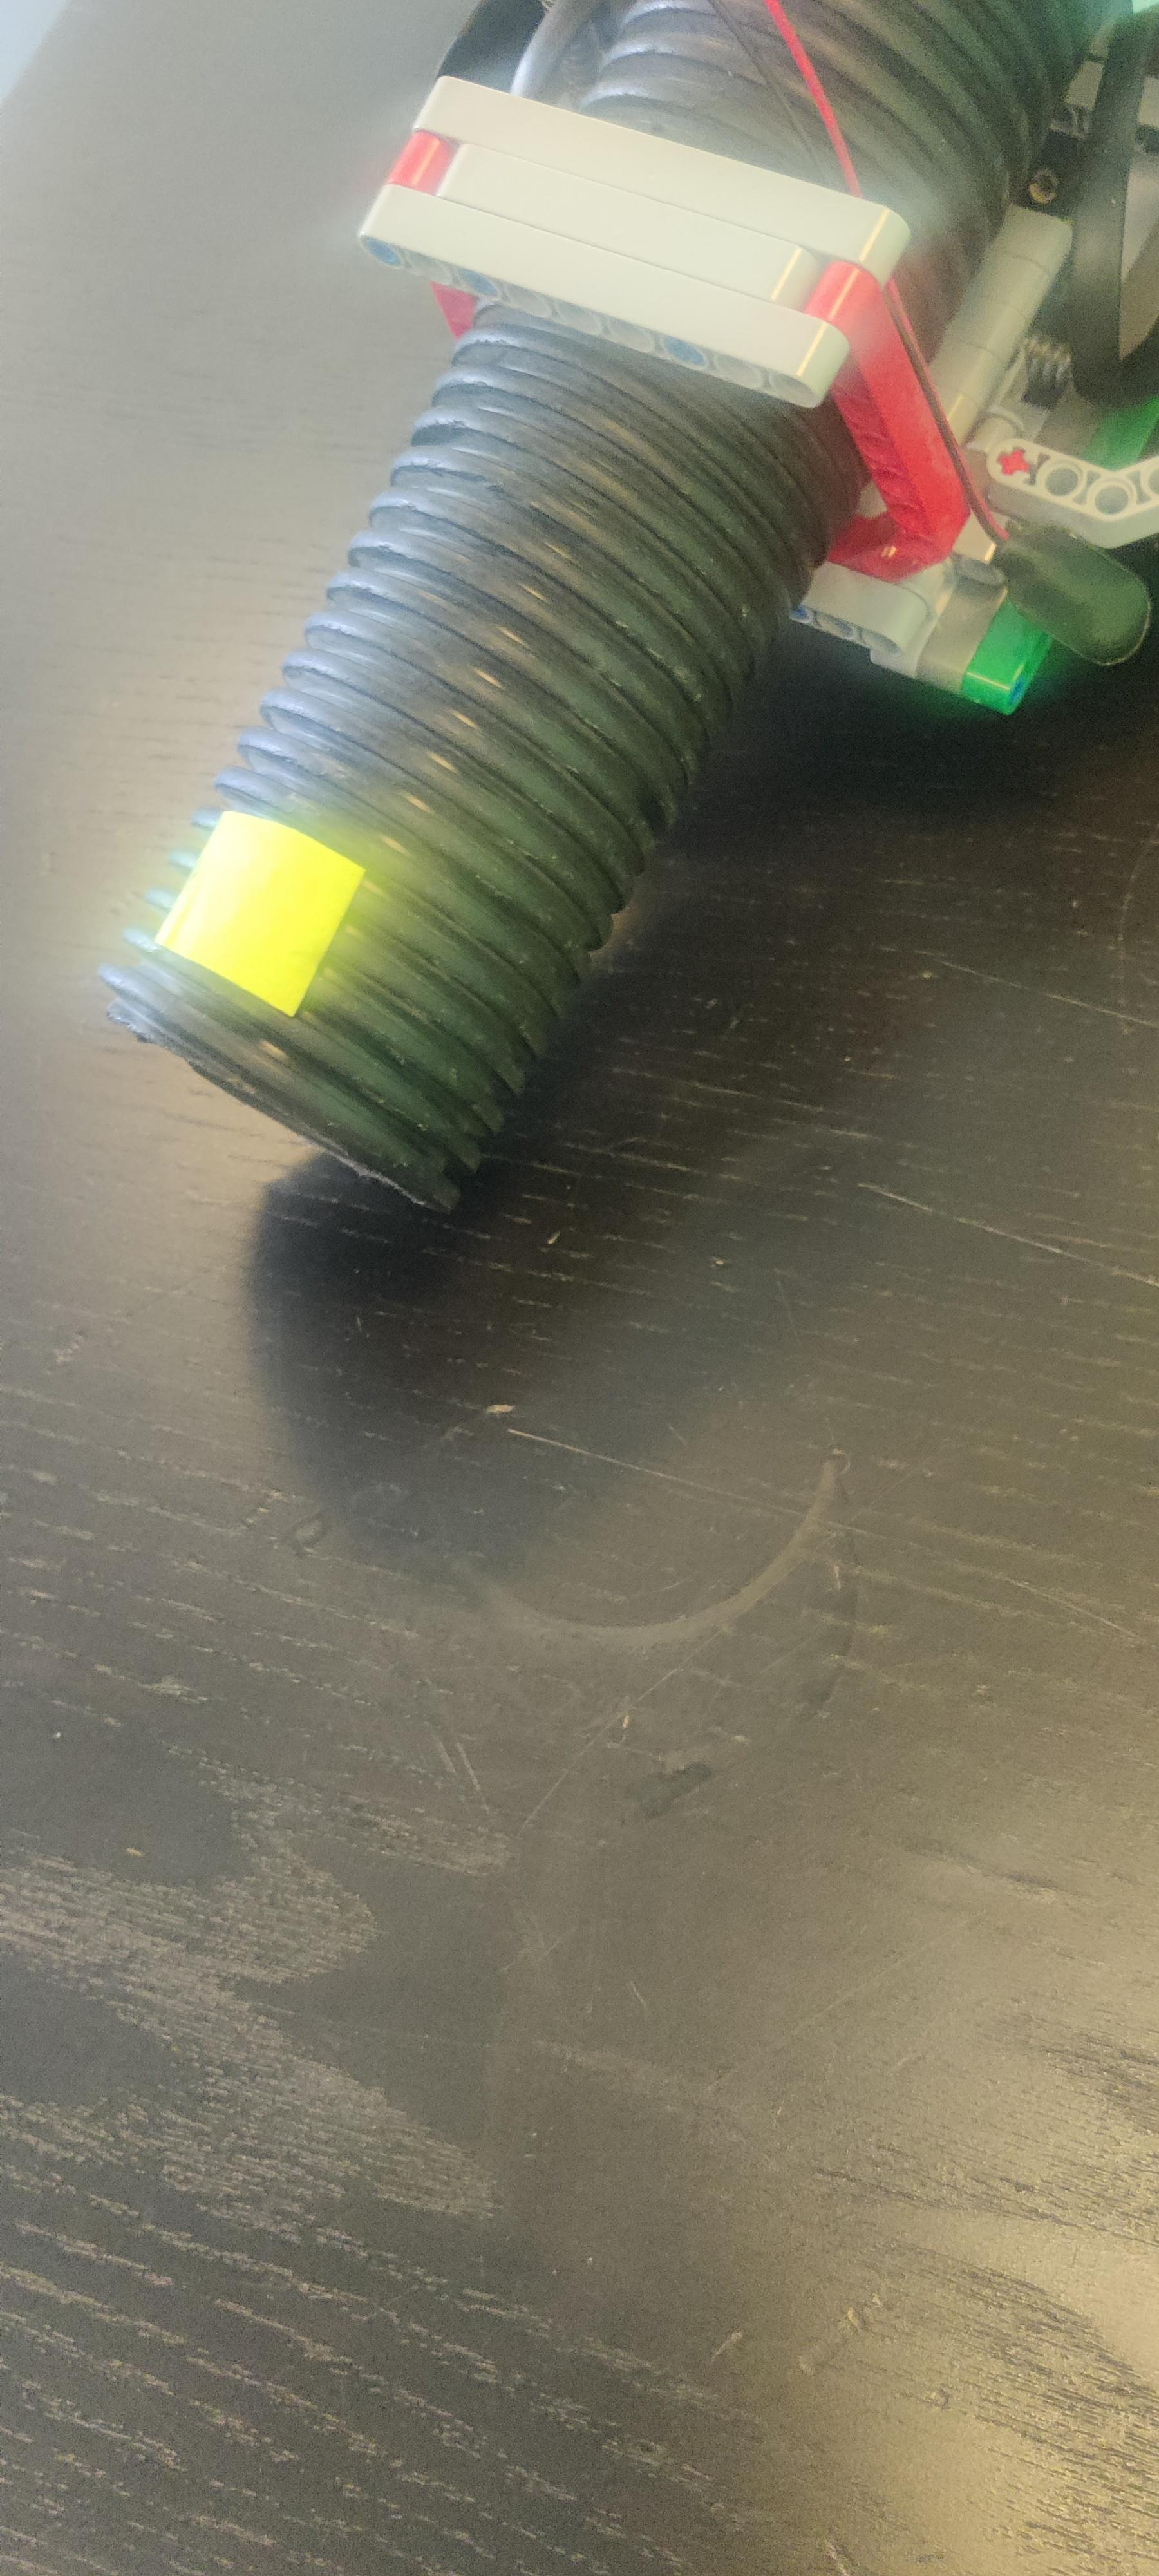robot-front: (126, 375, 758, 1193)
